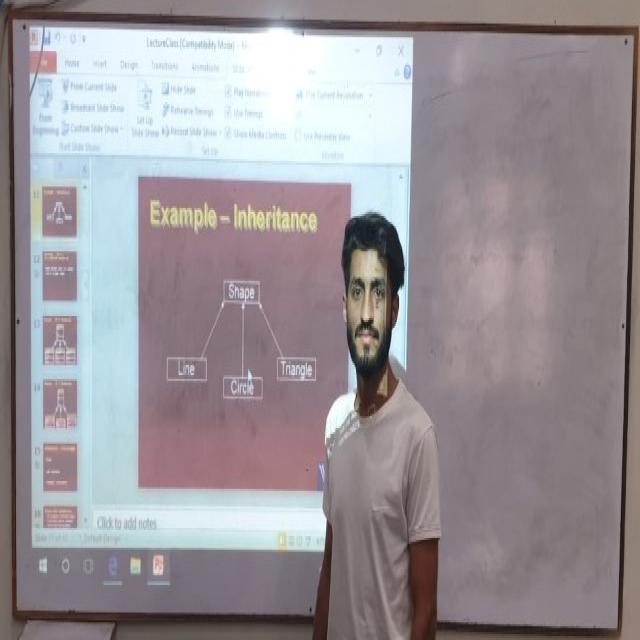Instructor: (316, 174, 448, 640)
Slide: (27, 24, 412, 599)
White-board: (12, 17, 638, 632)
